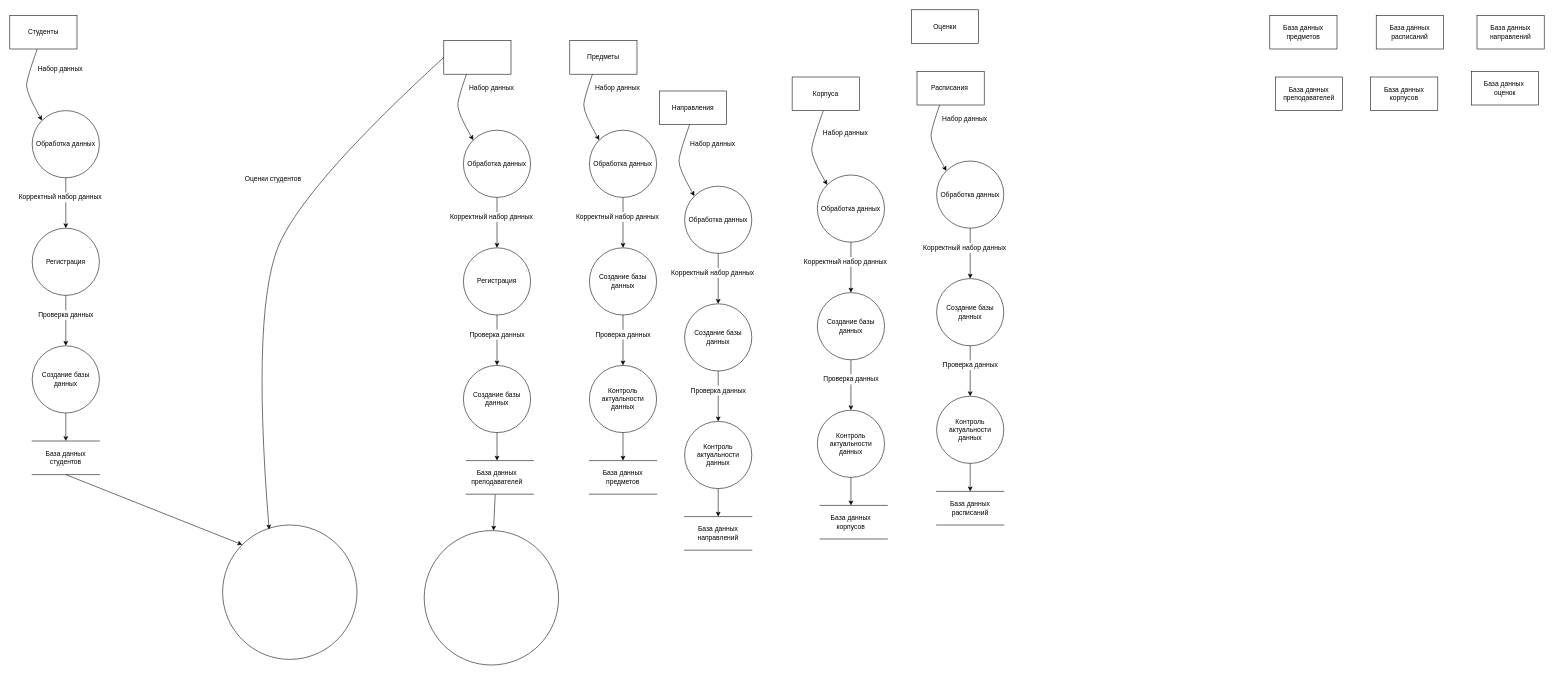
Some shapes in this 1554 by 675 pixel diagram are drawn without their labels. Each missing label, with the centre of its shape:
"Ведение журнала оценок" goes at pixel 289 591.
"Преподаватели" goes at pixel 477 57.
"Формирование расписания" goes at pixel 491 597.
